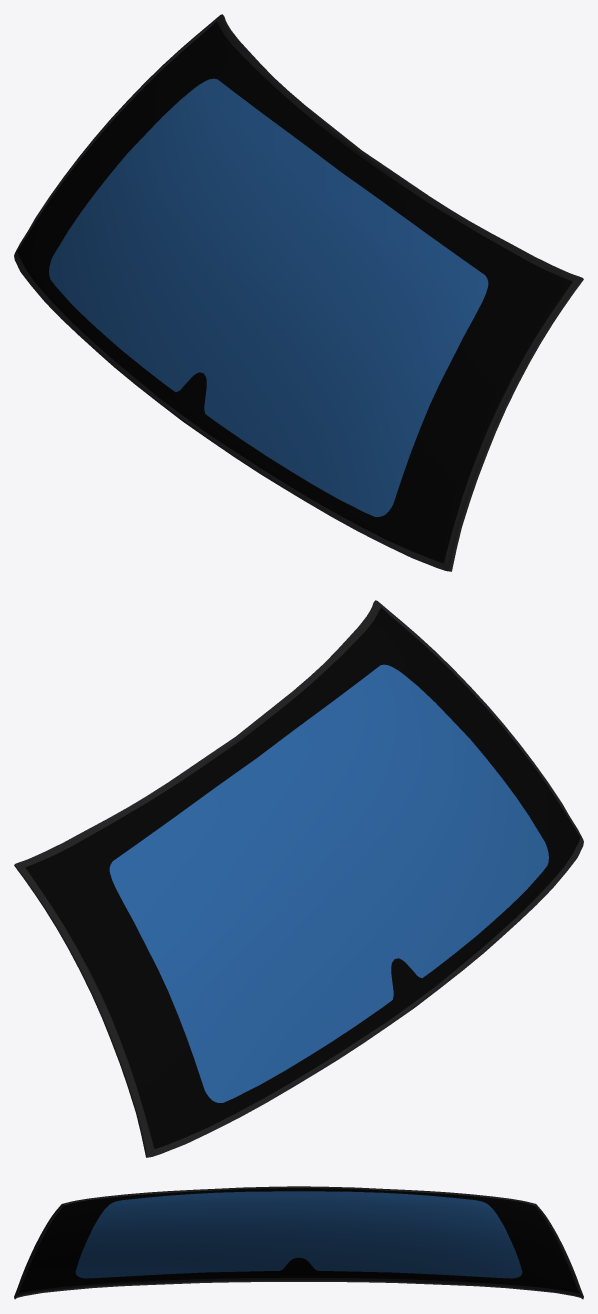
The picture shows the model from 3 angles, top to bottom: view 1: azimuth 30°, elevation 25°; view 2: azimuth 150°, elevation 25°; view 3: azimuth 270°, elevation 25°; orthographic projection. The views are drawn at different scales.
Visible parts, largest first — view 1: N664_9A_464N_C_N664_9A_464N_C_1_DTaSI, N664_9A_464N_C_N664_9A_464N_C_2_DTaSI, N664_9A_464N_C_1_D_N664_9A_464N_C; view 2: N664_9A_464N_C_N664_9A_464N_C_1_DTaSI, N664_9A_464N_C_N664_9A_464N_C_2_DTaSI, N664_9A_464N_C_1_D_N664_9A_464N_C; view 3: N664_9A_464N_C_N664_9A_464N_C_1_DTaSI, N664_9A_464N_C_N664_9A_464N_C_2_DTaSI, N664_9A_464N_C_1_D_N664_9A_464N_C.
Part boxes in pixels (left/top/right/bottom): N664_9A_464N_C_N664_9A_464N_C_1_DTaSI: left=49, top=78, right=488, bottom=516; N664_9A_464N_C_N664_9A_464N_C_2_DTaSI: left=17, top=21, right=572, bottom=562; N664_9A_464N_C_1_D_N664_9A_464N_C: left=14, top=14, right=583, bottom=571; N664_9A_464N_C_N664_9A_464N_C_1_DTaSI: left=109, top=664, right=548, bottom=1102; N664_9A_464N_C_N664_9A_464N_C_2_DTaSI: left=25, top=607, right=580, bottom=1148; N664_9A_464N_C_1_D_N664_9A_464N_C: left=14, top=600, right=583, bottom=1157; N664_9A_464N_C_N664_9A_464N_C_1_DTaSI: left=75, top=1191, right=522, bottom=1278; N664_9A_464N_C_N664_9A_464N_C_2_DTaSI: left=19, top=1188, right=578, bottom=1292; N664_9A_464N_C_1_D_N664_9A_464N_C: left=14, top=1186, right=583, bottom=1299.
Size of the model in its own units: 44.1 by 44.47 by 150.
